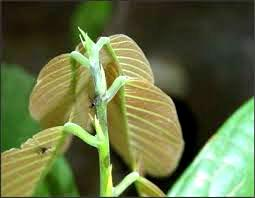Helopeltis-insect: (85, 92, 107, 113), (37, 144, 52, 160)
